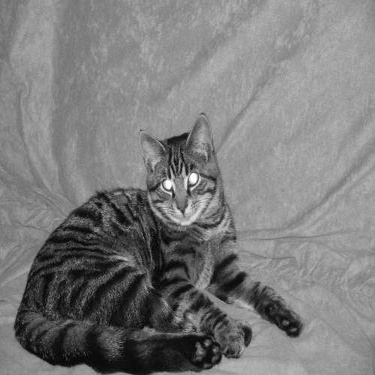cat: (15, 109, 302, 372)
